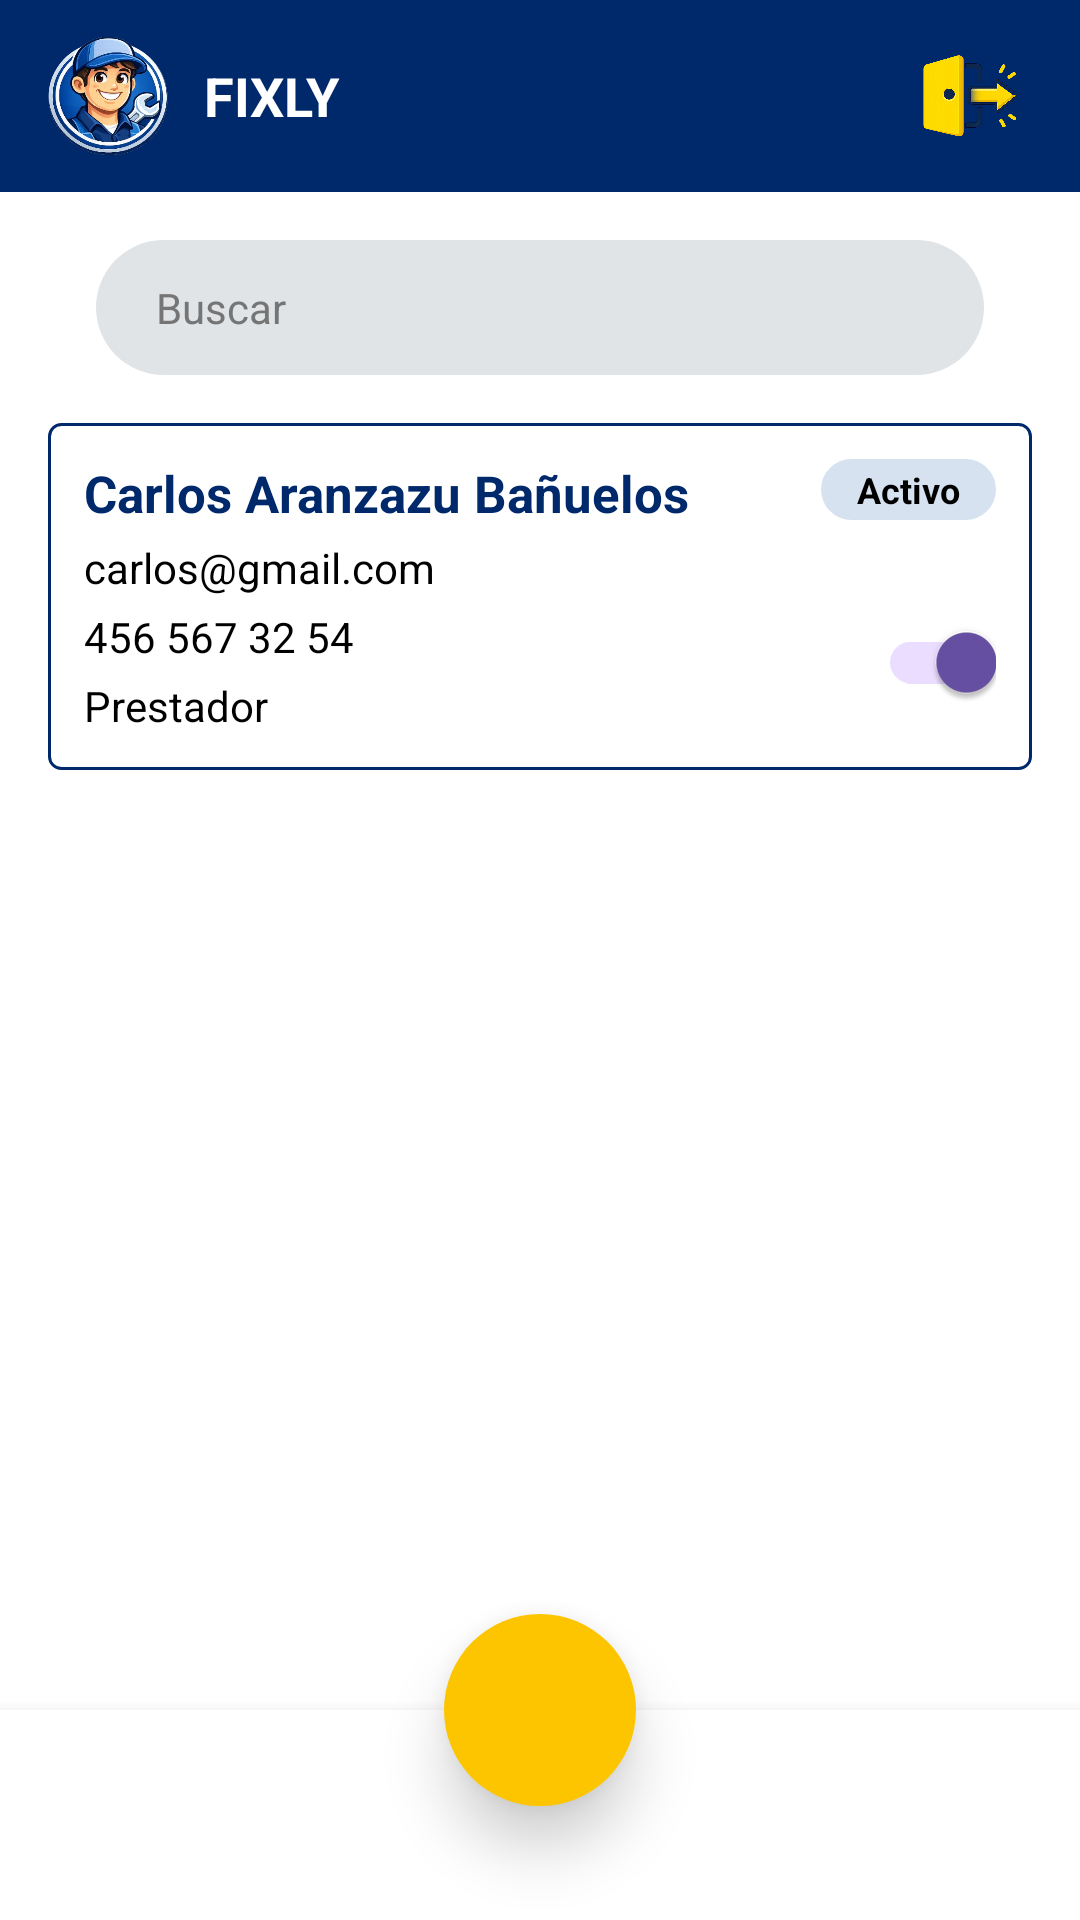

Icons on this 1080px×1920px Android screen, each with its box as box=[x1, y1, x2, y2]:
cerrar sesion: box=[923, 55, 1018, 136]
